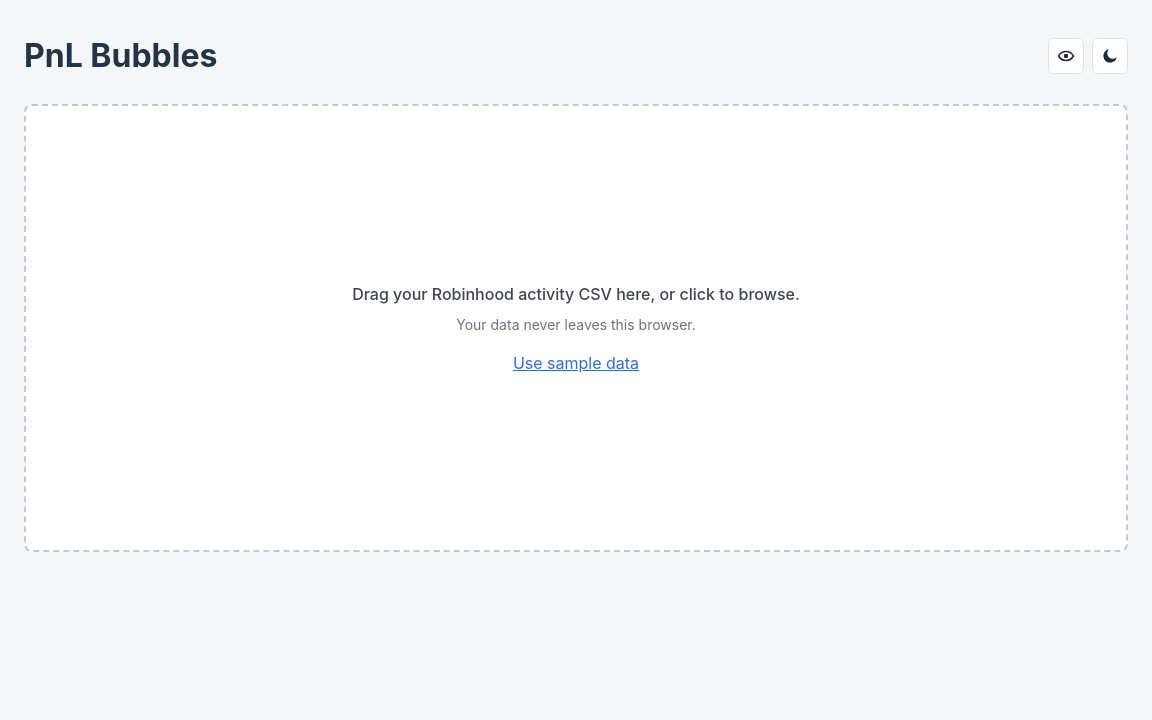
Test case: bubbles-702.3: clicking Use sample data fetches /sample.csv and renders results
Click the button "Use sample data" at x=576, y=362, box [513,350,639,374]
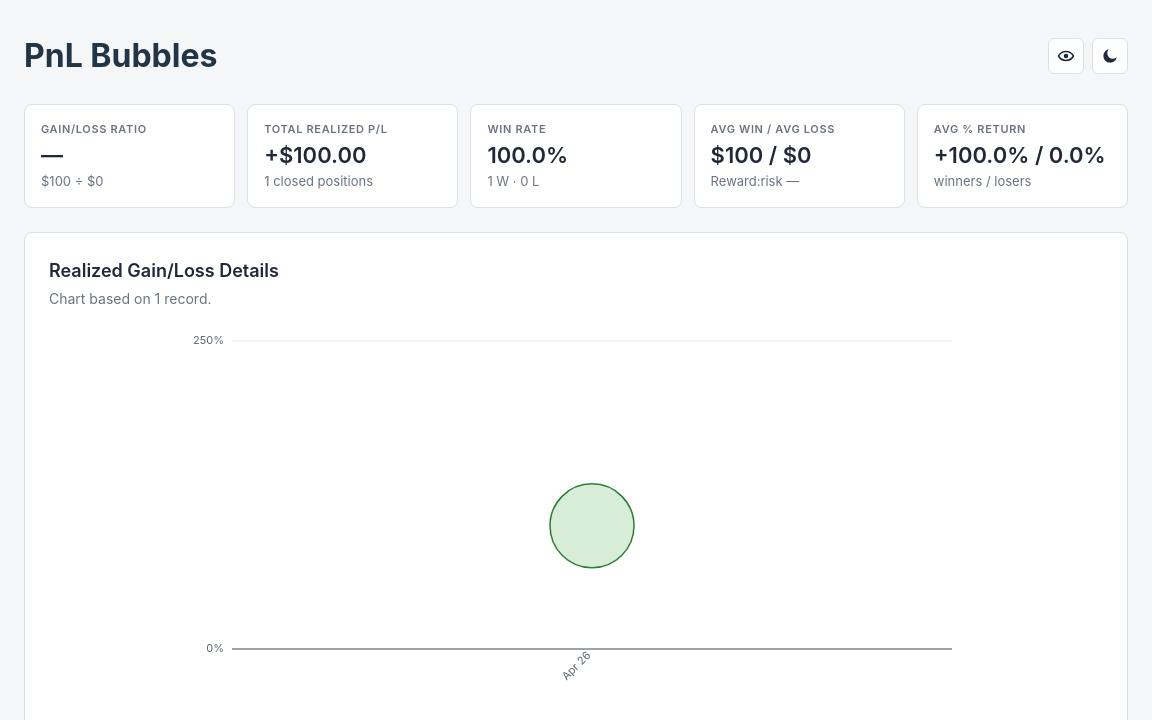
Expected: the element "Total Realized P/L +$100.00 1 closed positions" is shown, [247,104,458,208]
